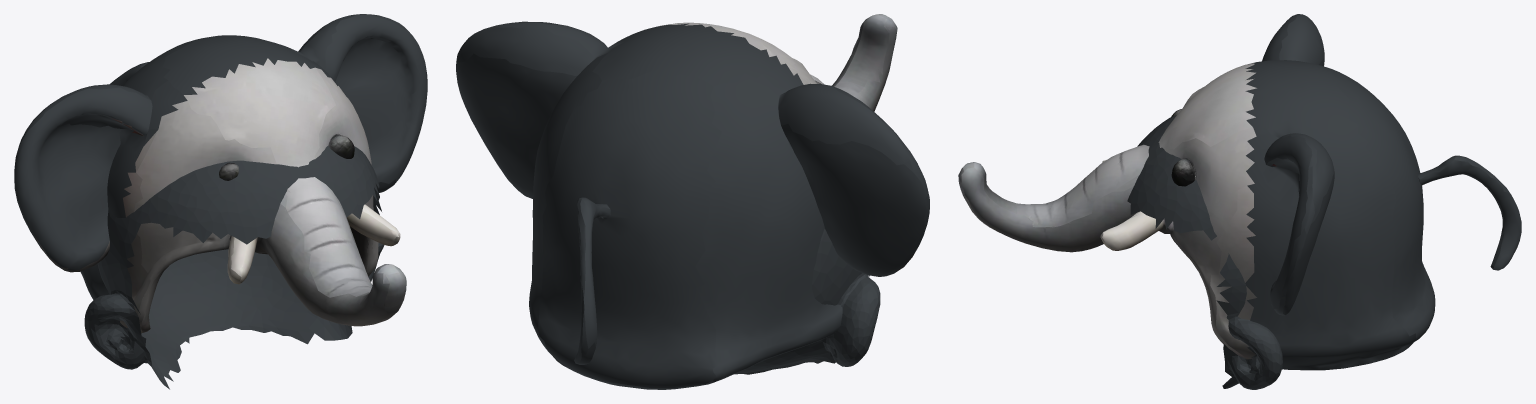
Rendered from elephant.glb.
The picture shows the model from 3 angles, left to right: view 1: azimuth 30°, elevation 25°; view 2: azimuth 150°, elevation 25°; view 3: azimuth 270°, elevation 25°; orthographic projection. The views are drawn at different scales.
Parts seen in each view (by area): view 1: geometry_0, HoodAnatomicalLining; view 2: geometry_0, HoodAnatomicalLining; view 3: geometry_0, HoodAnatomicalLining.
Part boxes in pixels (<box>): geometry_0: <box>14,14,427,333</box>; HoodAnatomicalLining: <box>84,146,384,389</box>; geometry_0: <box>456,14,929,389</box>; HoodAnatomicalLining: <box>734,229,880,374</box>; geometry_0: <box>958,14,1521,370</box>; HoodAnatomicalLining: <box>1127,115,1282,389</box>.
Bounding box in the file's own units: 0.7353 × 0.4944 × 0.8971.
2 materials, 1 textured.
